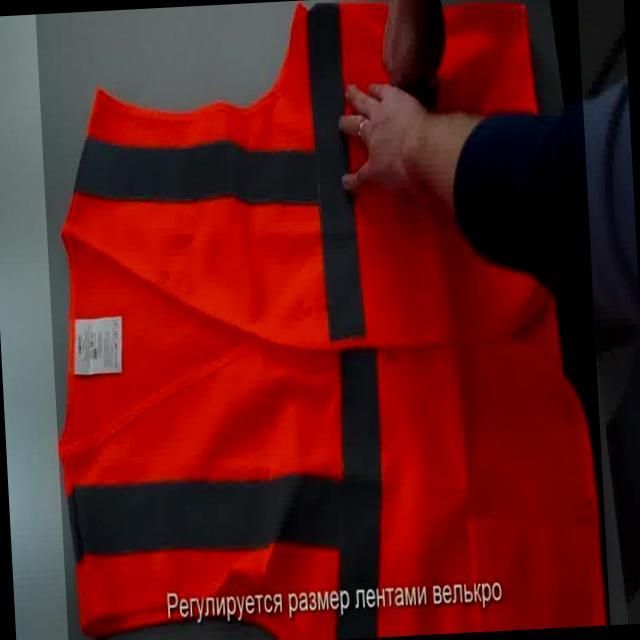Safety Vest: (35, 0, 610, 640)
